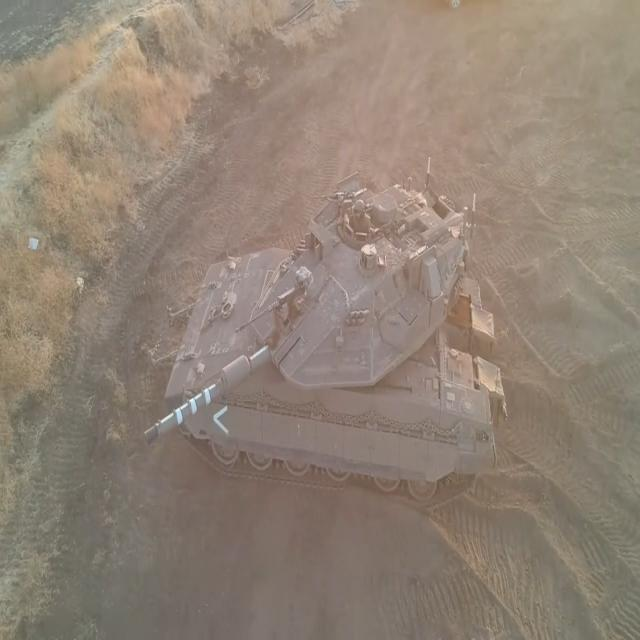tank: (140, 165, 514, 512)
